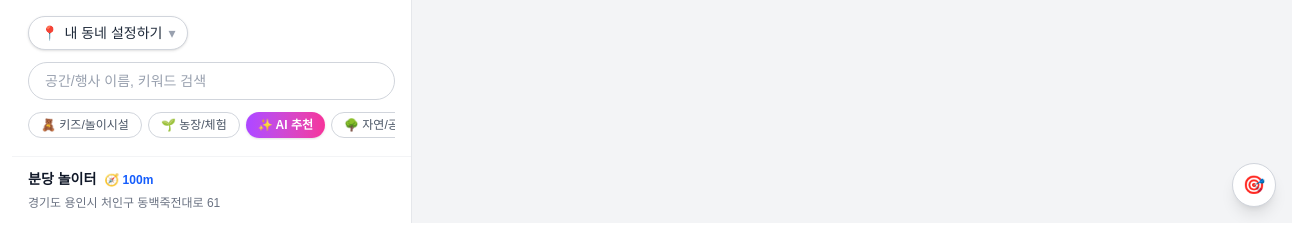
Test case: MapExplorer 전국구 서버사이드 검색 (2026-08-30) › 검색어를 지우면 다시 지도 반경 기반 결과로 돌아간다
In the field with placeholder "공간/행사 이름, 키워드 검색": (212, 81) [28,62,395,100], type "제주"
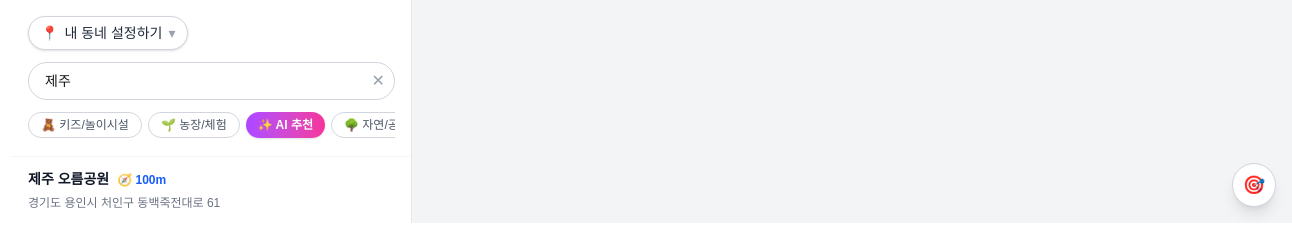
Check: no buttons "분당 놀이터" are shown
Clear the field with placeholder "공간/행사 이름, 키워드 검색": (212, 81) [28,62,395,100]
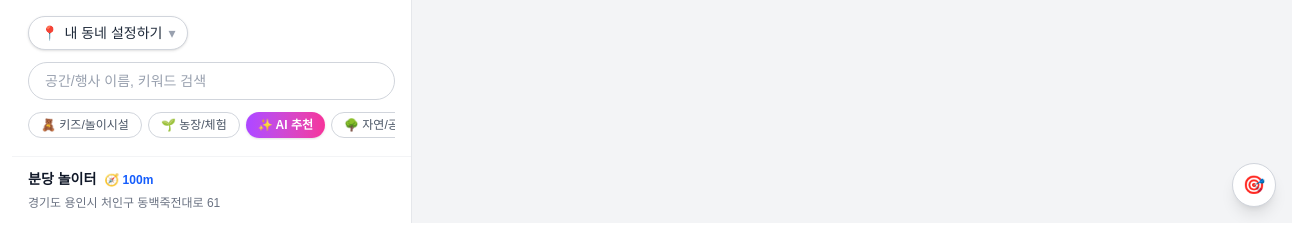
Check: the text "분당 놀이터" is shown, box [28,169,96,189]
Check: no buttons "제주 오름공원" are shown
